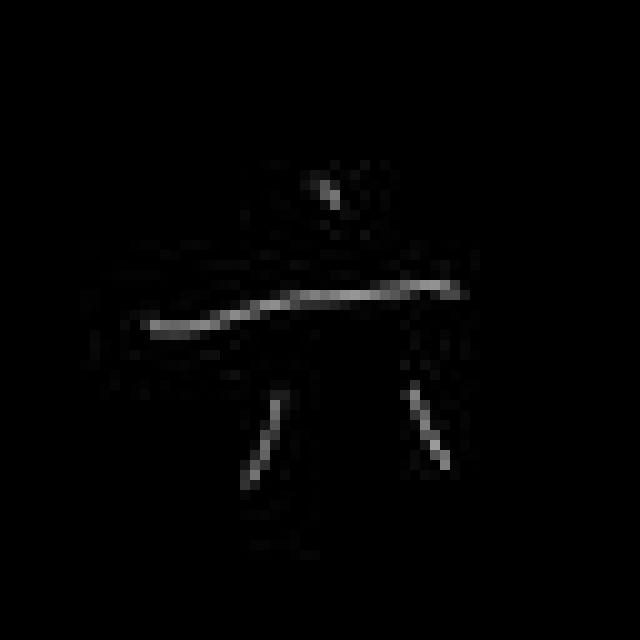6 -six-: (137, 170, 473, 504)
